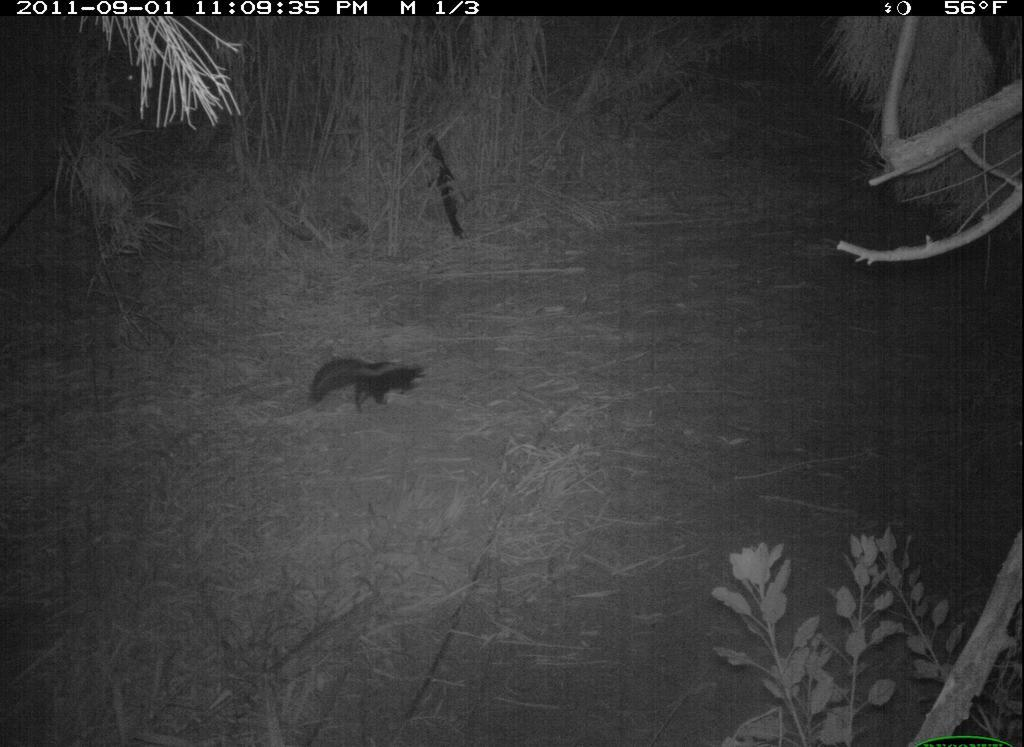skunk: (301, 347, 437, 422)
